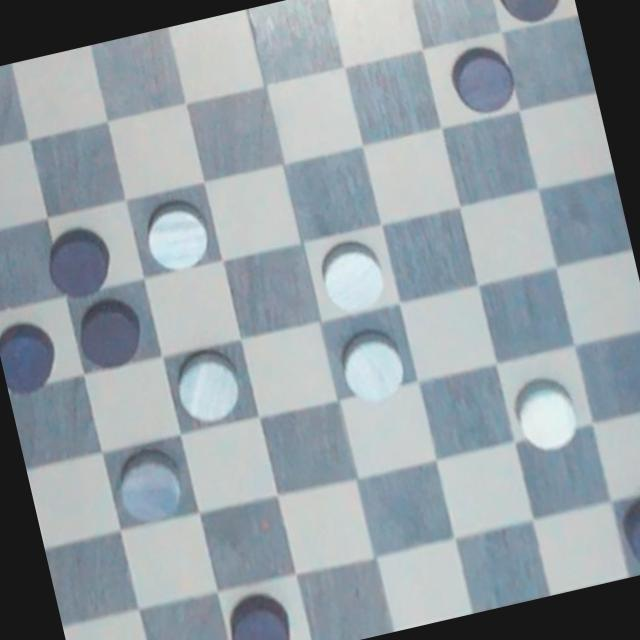BOARD: (0, 0, 640, 640)
black: (31, 214, 130, 305), (440, 30, 530, 124), (68, 292, 150, 375), (0, 310, 68, 400), (221, 589, 296, 640), (610, 482, 640, 577), (485, 0, 566, 29)
white: (500, 368, 594, 467), (328, 317, 418, 412), (307, 231, 403, 320), (108, 440, 200, 528), (168, 342, 255, 433), (138, 192, 222, 278)
